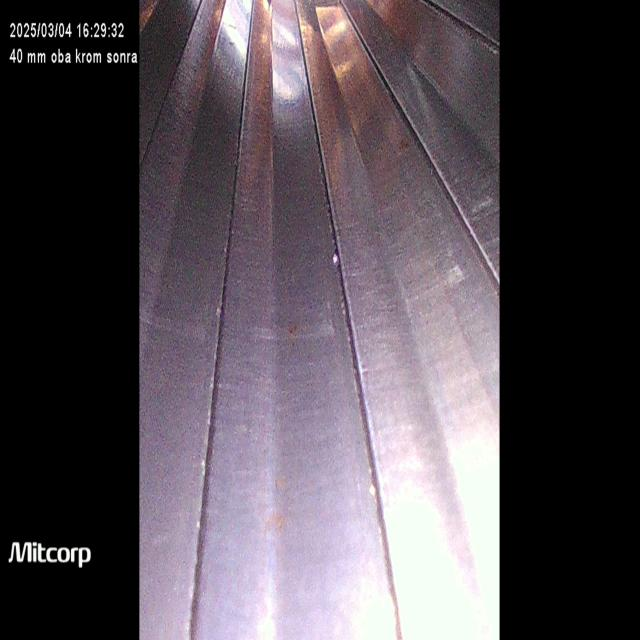hata_4.2: (363, 94, 427, 229), (250, 476, 303, 587), (319, 103, 358, 190), (272, 289, 311, 375)
